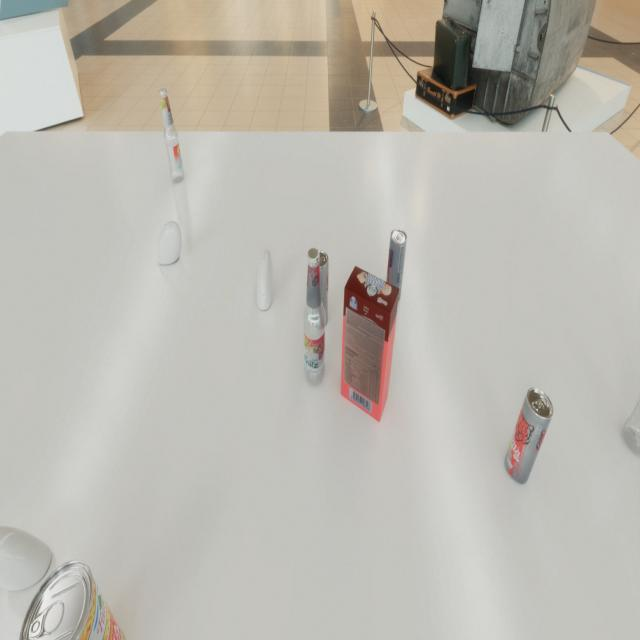Bottle: (302, 248, 326, 386), (160, 88, 184, 184)
HelloPanda: (341, 266, 399, 422)
Rita_zero_sugar: (505, 388, 553, 484), (385, 229, 407, 303), (311, 250, 329, 328)
Salt: (0, 525, 51, 590), (157, 221, 182, 265), (257, 248, 274, 310)
